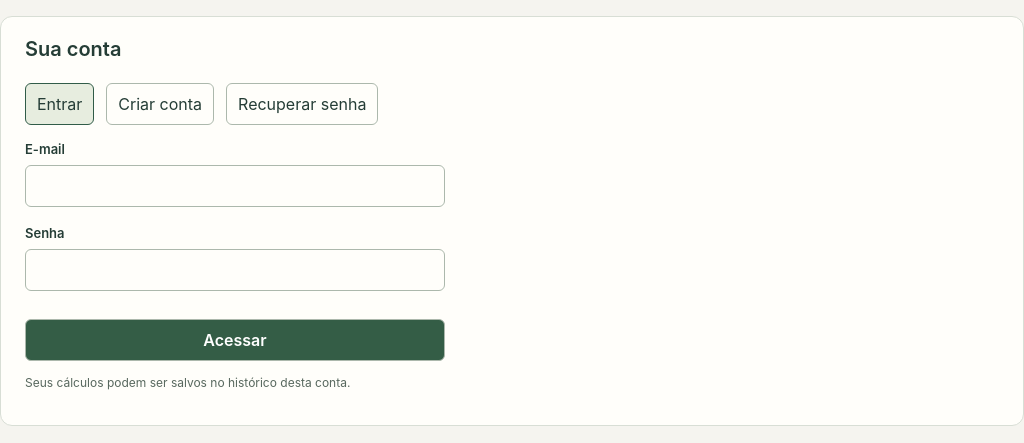
Test case: account interface › requests recovery without claiming the account exists
Check: the field labelled "E-mail" is shown, box [25,165,445,207]
Click the button "Recuperar senha" at (302, 104), box [226,83,378,125]
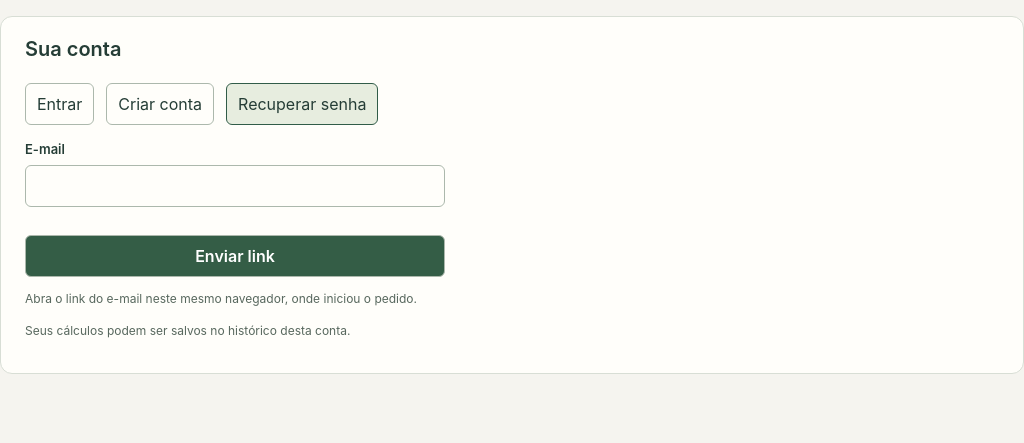
Type "student@example.test" into the field labelled "E-mail" at (235, 186), box [25,165,445,207]
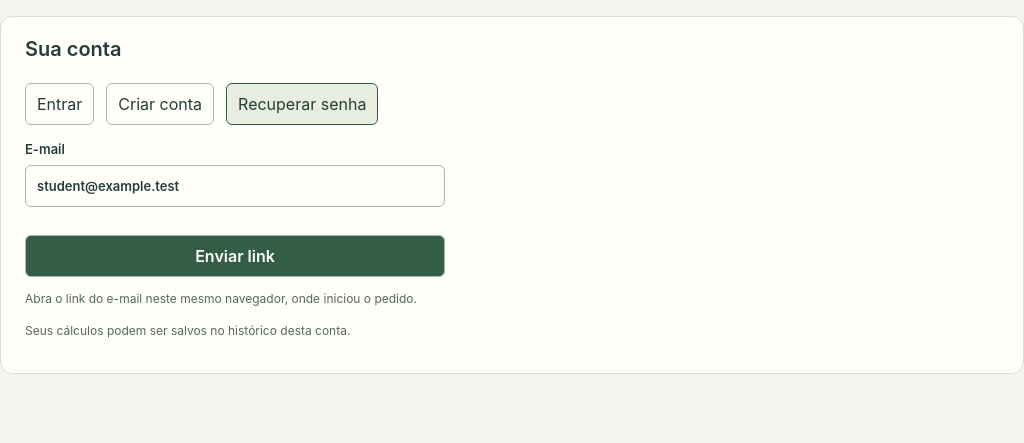
Click the button "Enviar link" at (235, 256), box [25,235,445,277]
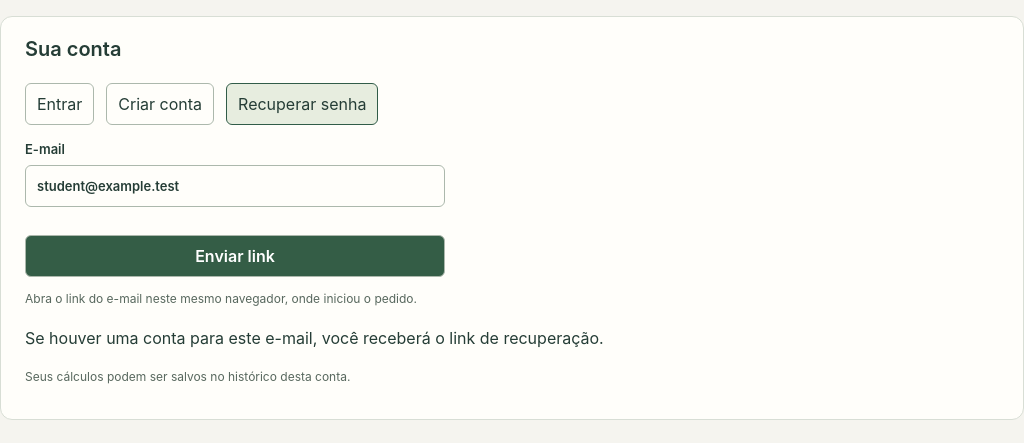
Check: the text "Se houver uma conta para este e-mail, você receberá o link de recuperação." is shown, box [25,328,604,348]
